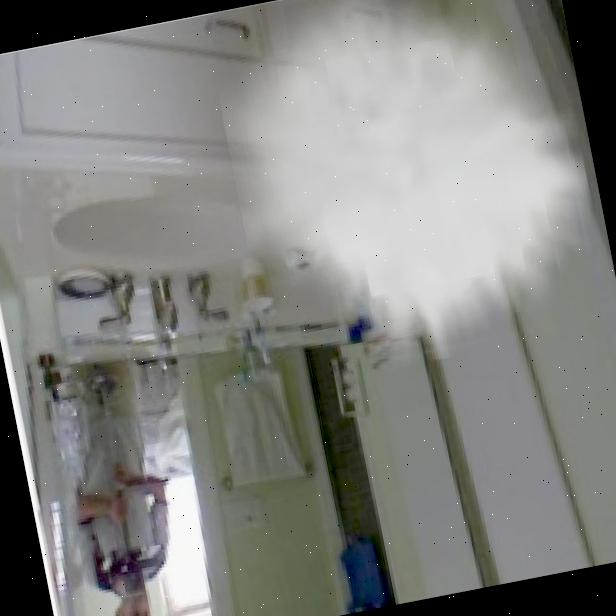smoke: (203, 0, 615, 391)
